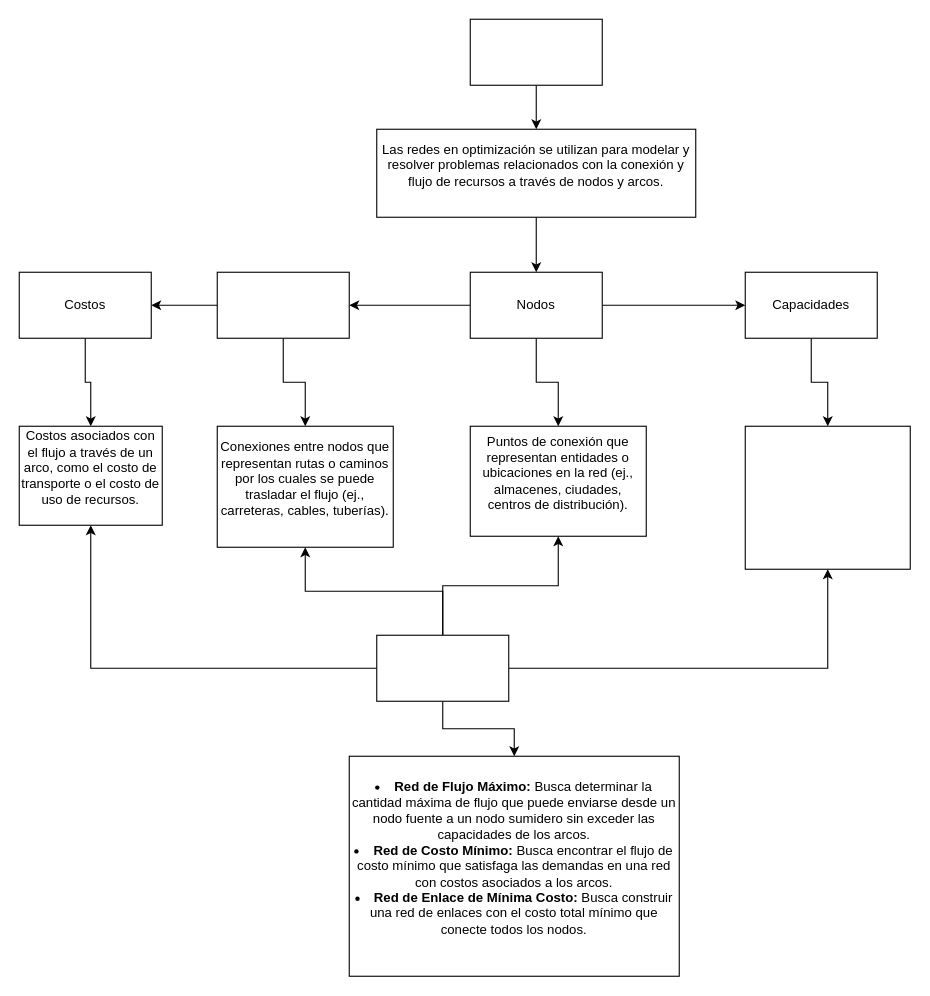
The diagram is 930 pixels wide and 996 high, and some of its shapes have lost their labels. The centre of each missing label's shape, as x and y in pixels:
Arcos: pixel 282 304
Lmite máximo del flujo que un arco puede soportar.: pixel 827 497
Redes: pixel 535 51
Tipos de Redes: pixel 442 667
